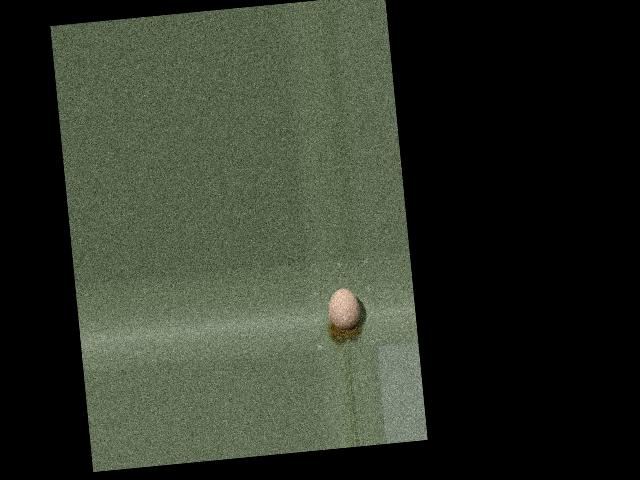egg: (327, 286, 361, 330)
